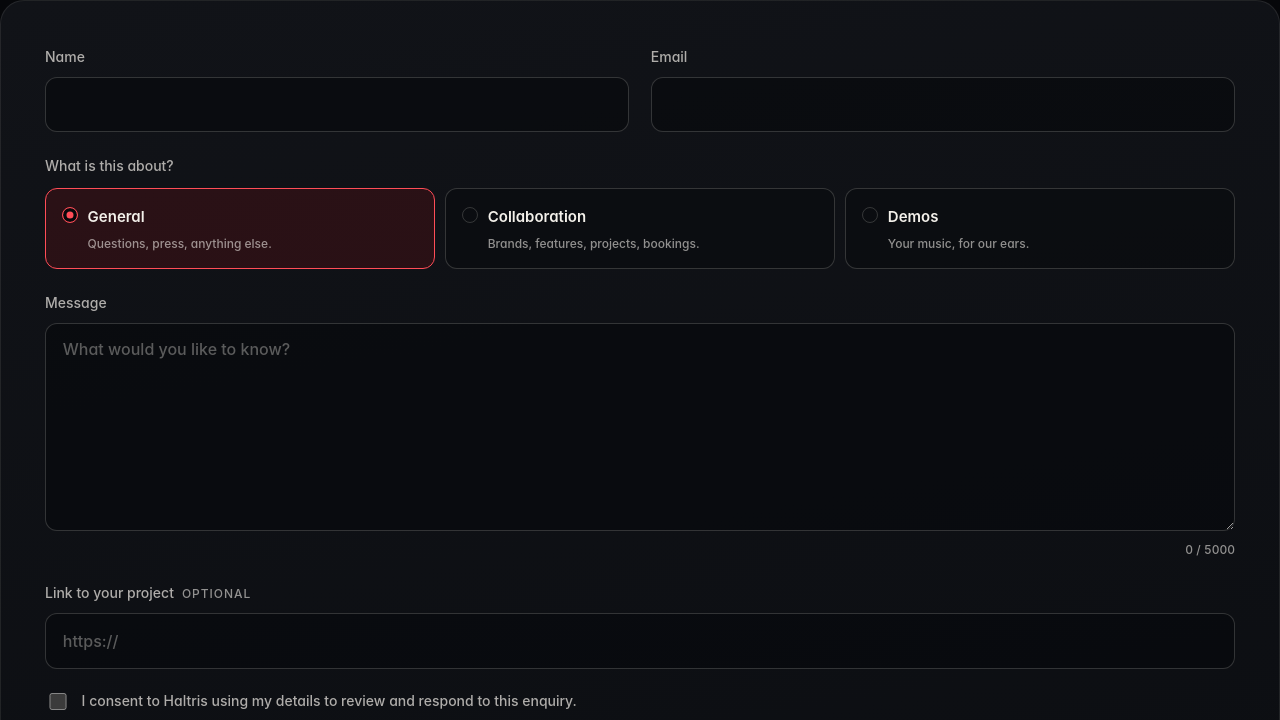
Scenario: ContactForm › shows a safe error when the request cannot be delivered
Type "Asha Rao" into the field labelled "Name" at [337, 105], box [45,77,629,132]
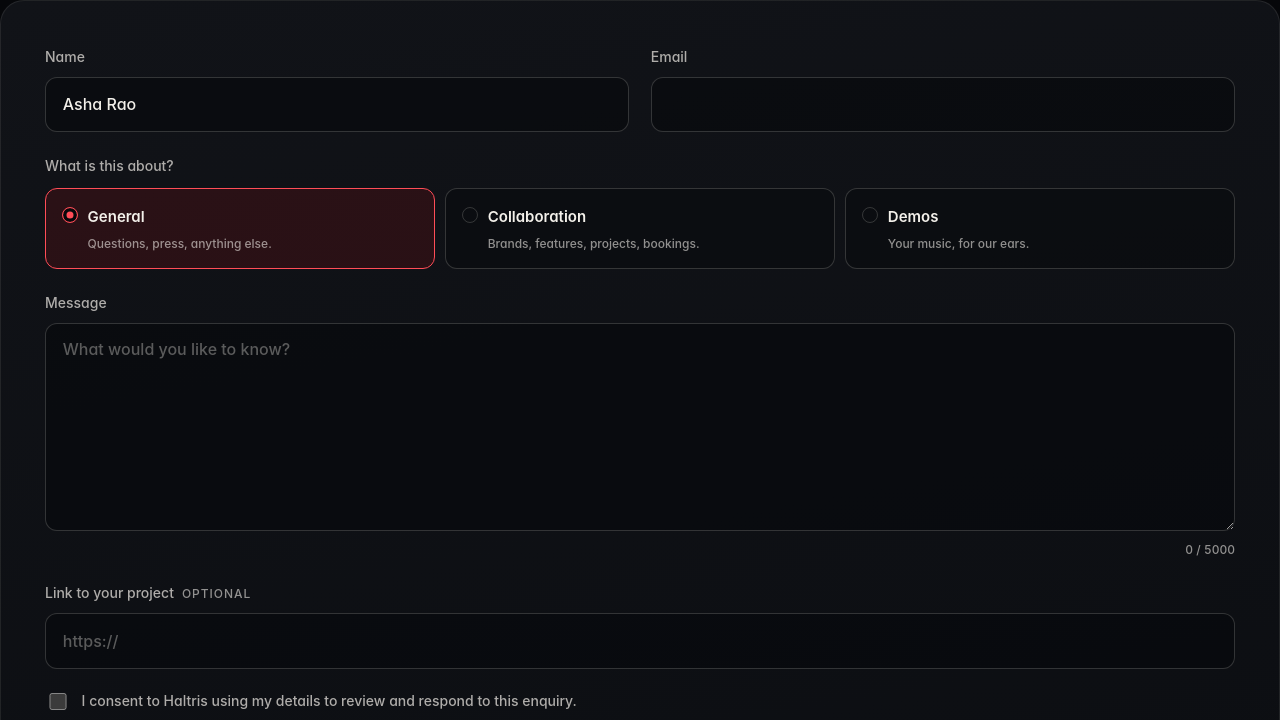
Type "asha@example.com" into the field labelled "Email" at [943, 105], box [651,77,1235,132]
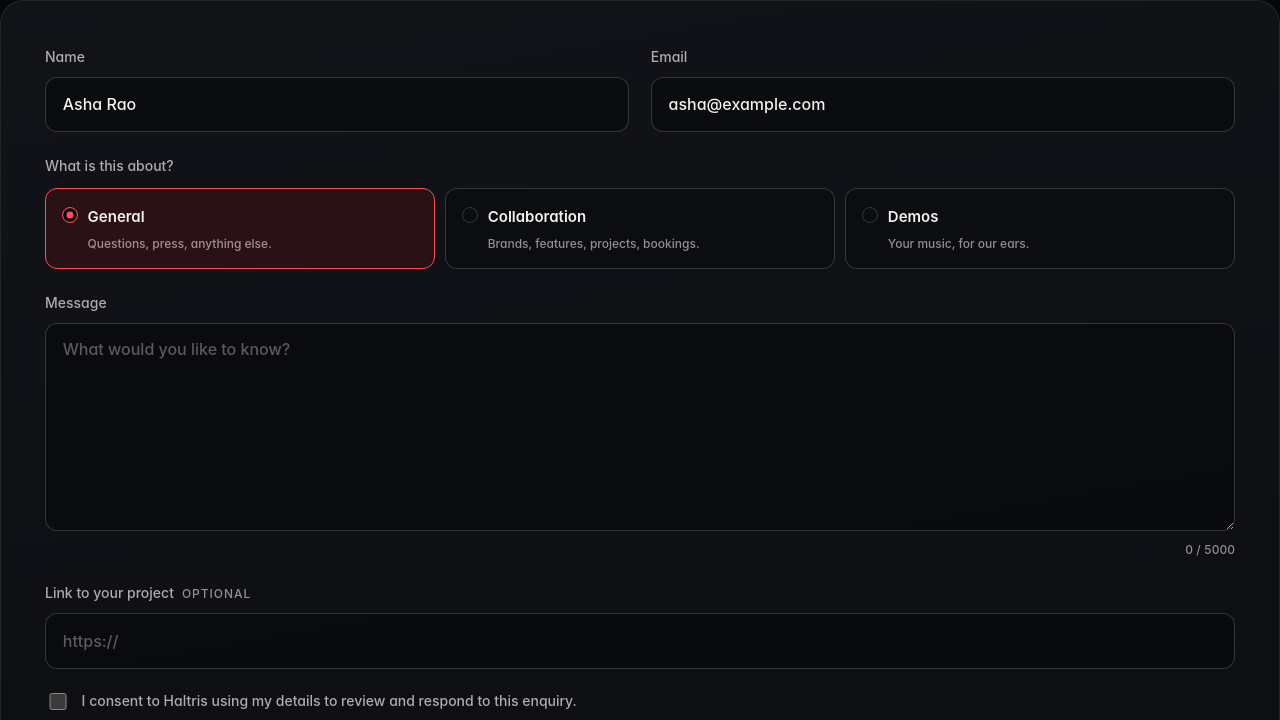
Type "I would like to collaborate." into the text box labelled "Message 0 / 5000" at [640, 427], box [45,323,1235,531]
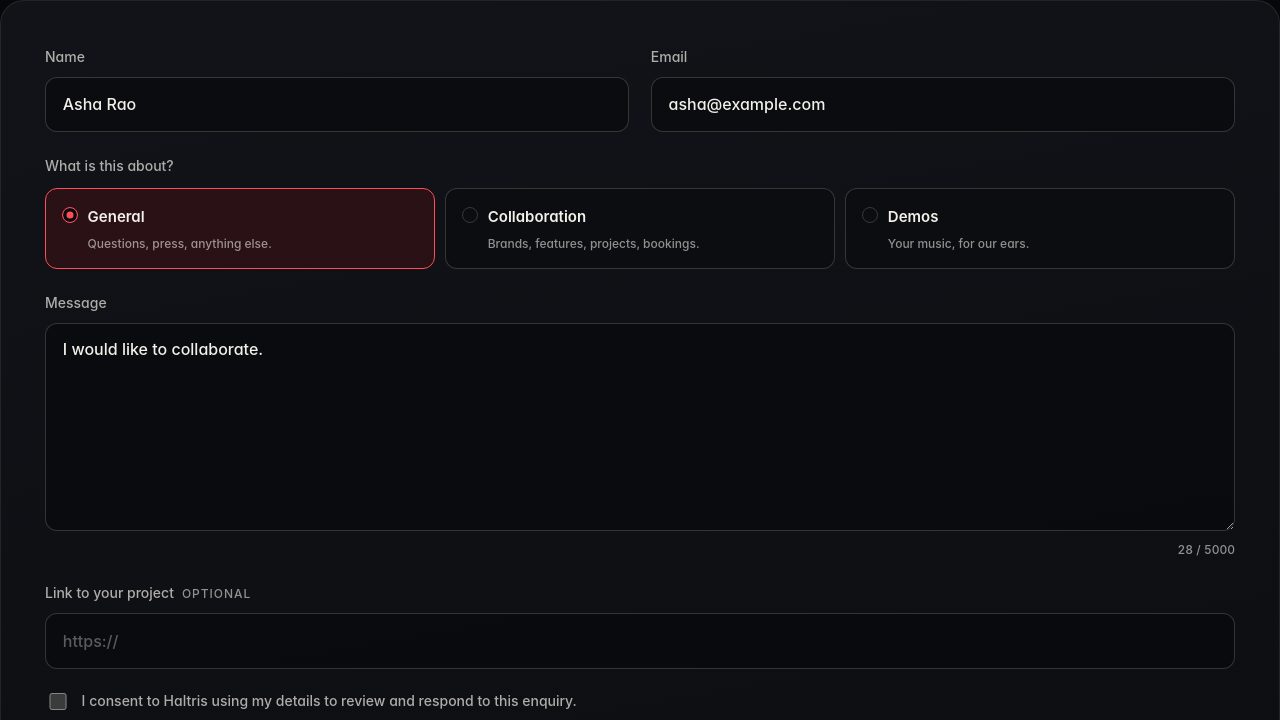
Click the checkbox labelled "I consent" at [58, 702], box [49,693,67,710]
(page scrolled)
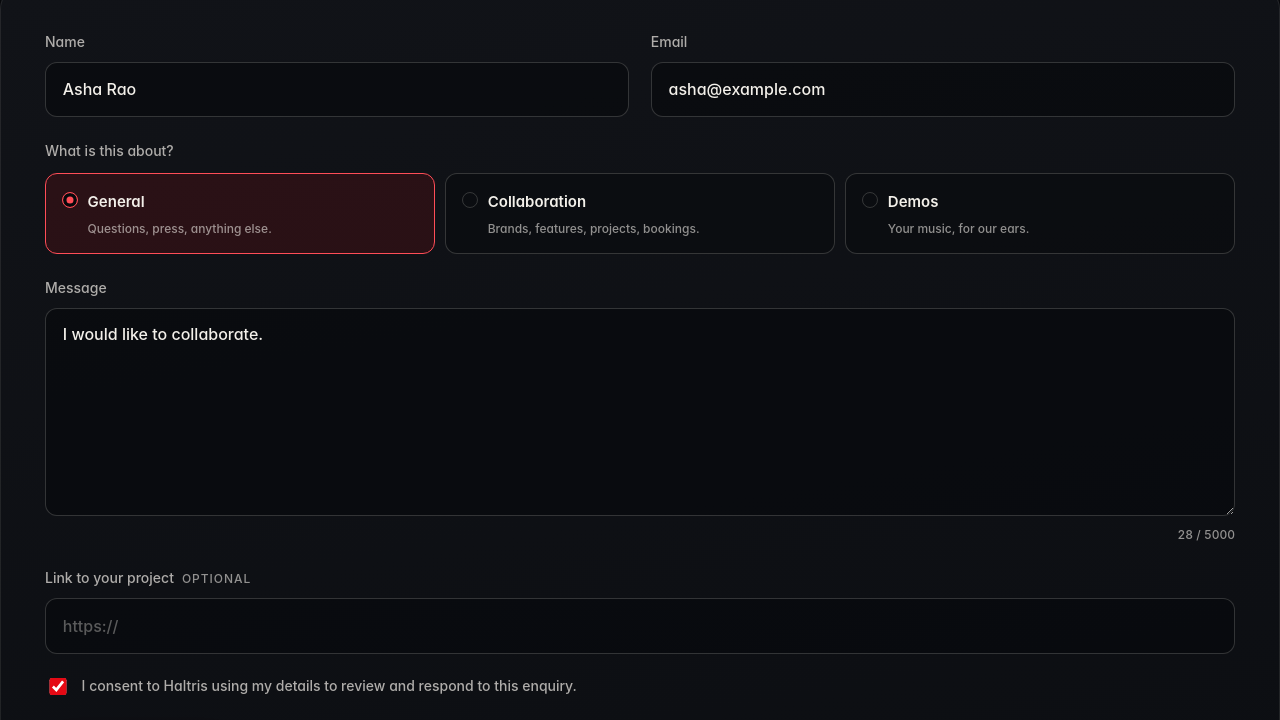
Submit the form named "send message"
(page scrolled)
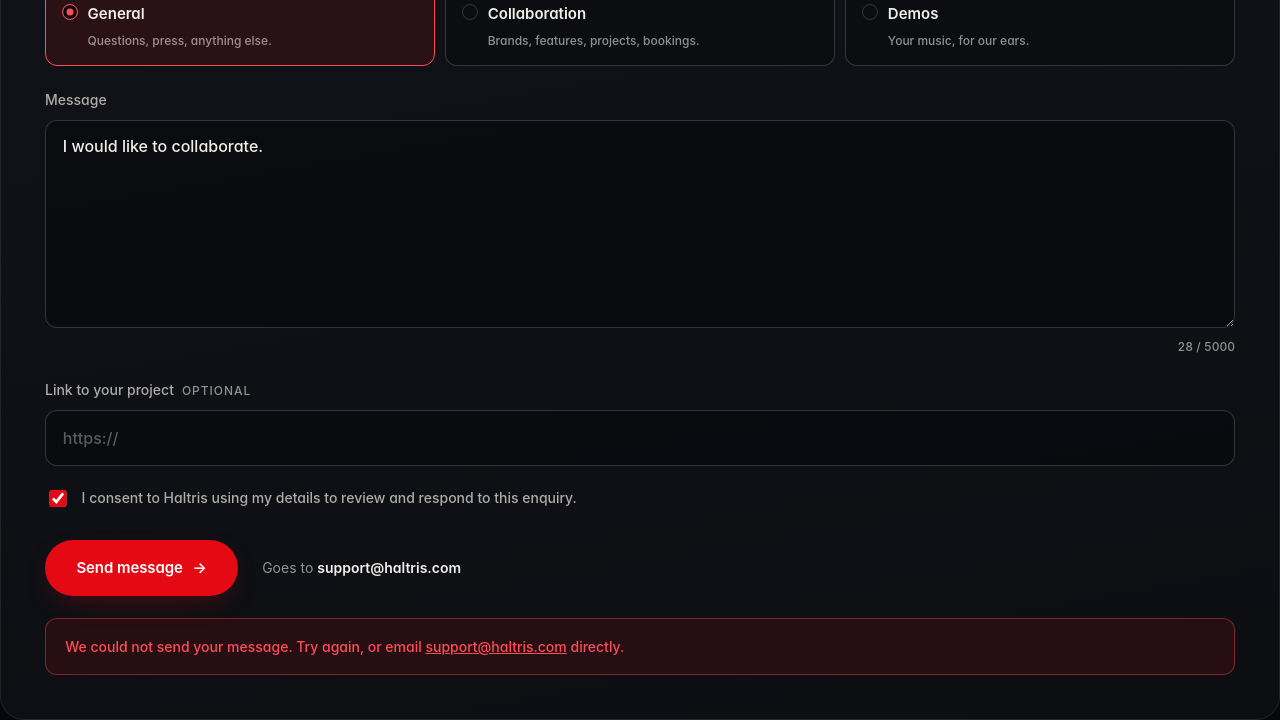
Now the message shows "We could not send your message. Try again, or email support@haltris.com directly.", box [45,618,1235,675]
